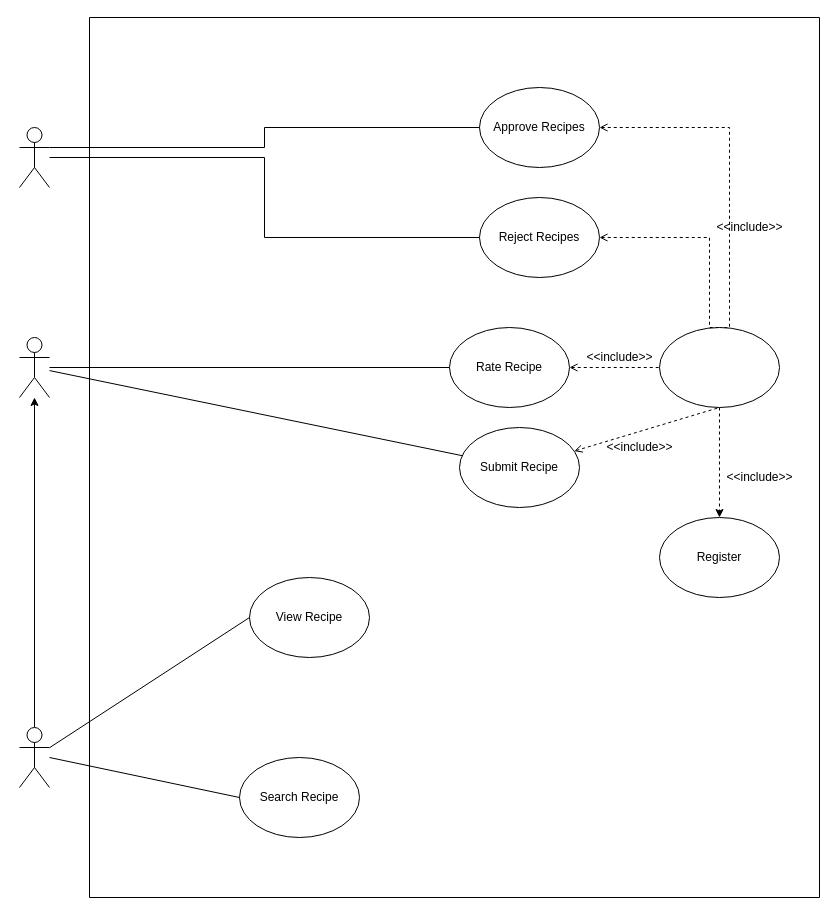
The diagram is 837 pixels wide and 915 high, and some of its shapes have lost their labels. The centre of each missing label's shape, as x and y in pixels:
"Admin" belongs at [34,157].
"Guest" belongs at [34,757].
"Login" belongs at [719,367].
"User" belongs at [34,367].
